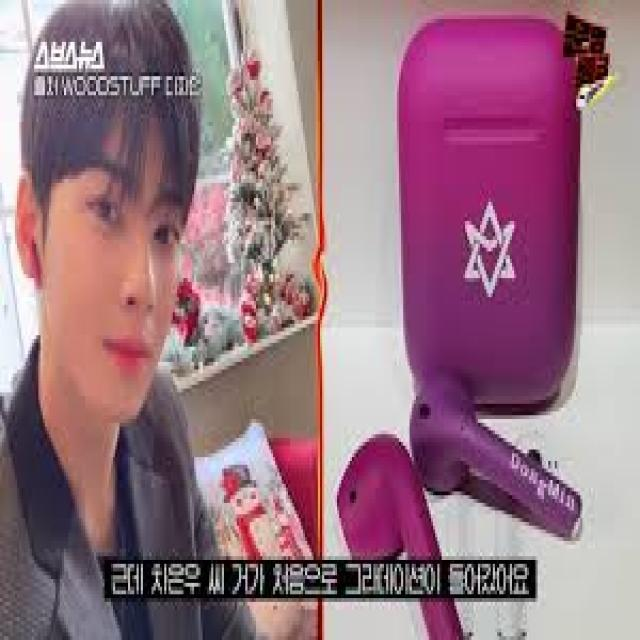earphone: (325, 415, 463, 637), (402, 361, 572, 534), (16, 230, 65, 298)
